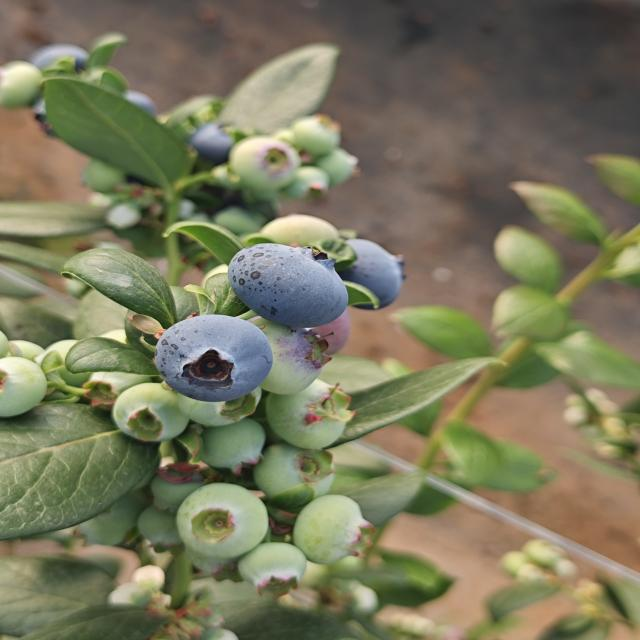ripe: (225, 241, 351, 331), (151, 312, 275, 403), (331, 234, 409, 307), (178, 116, 260, 168), (28, 39, 100, 80), (104, 88, 164, 127)
